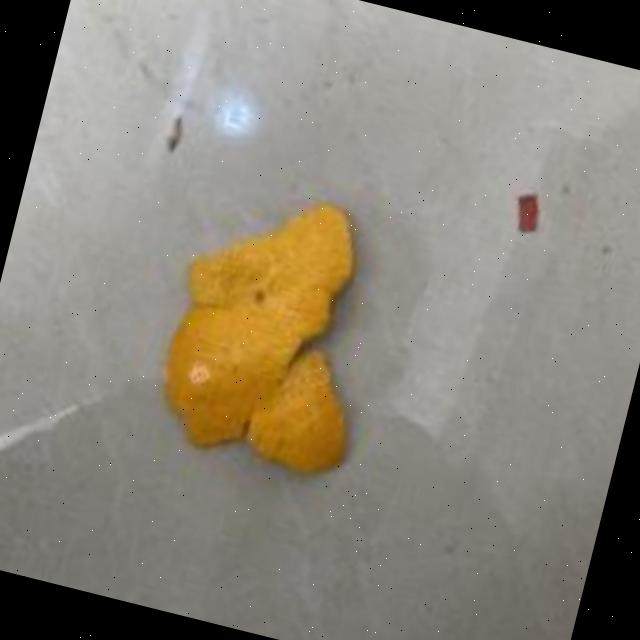orange-peel: (143, 169, 404, 484)
